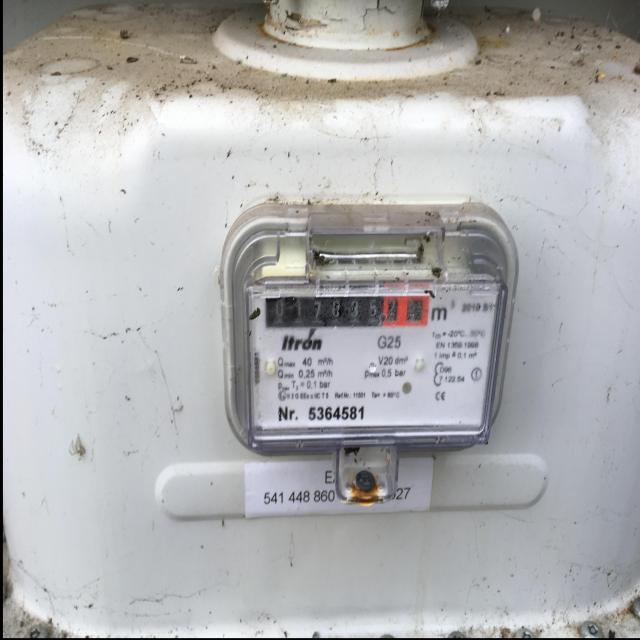gaz_meter: (243, 270, 502, 431)
indication: (265, 292, 430, 331)
